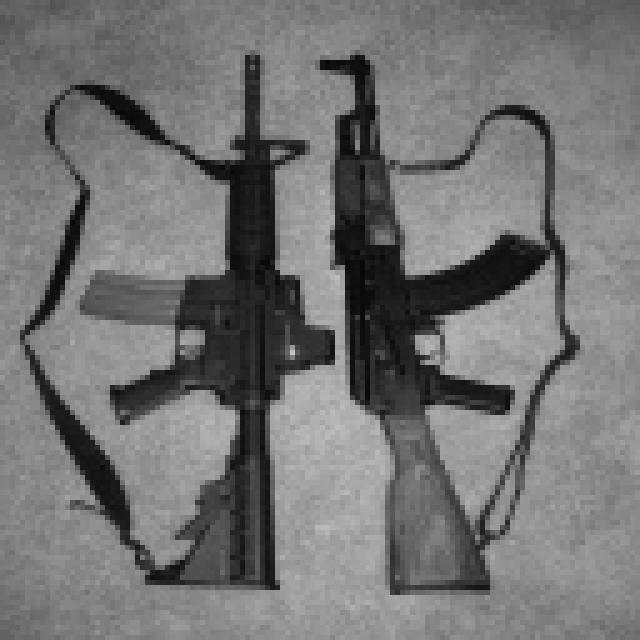Rifle: (0, 0, 340, 608), (282, 16, 592, 623)
